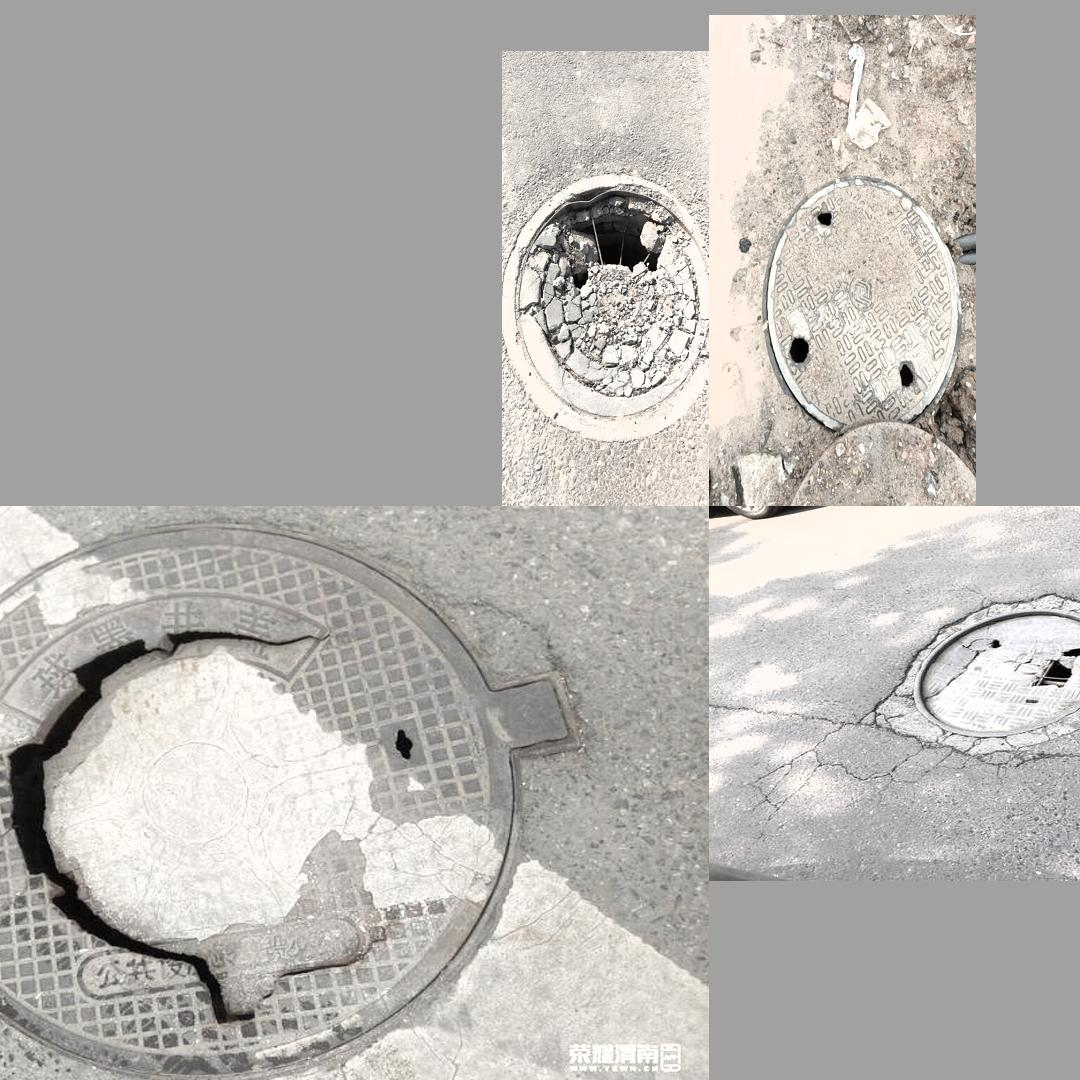broke: (0, 515, 532, 1080), (502, 176, 708, 441), (763, 175, 962, 435), (873, 591, 1080, 763)
